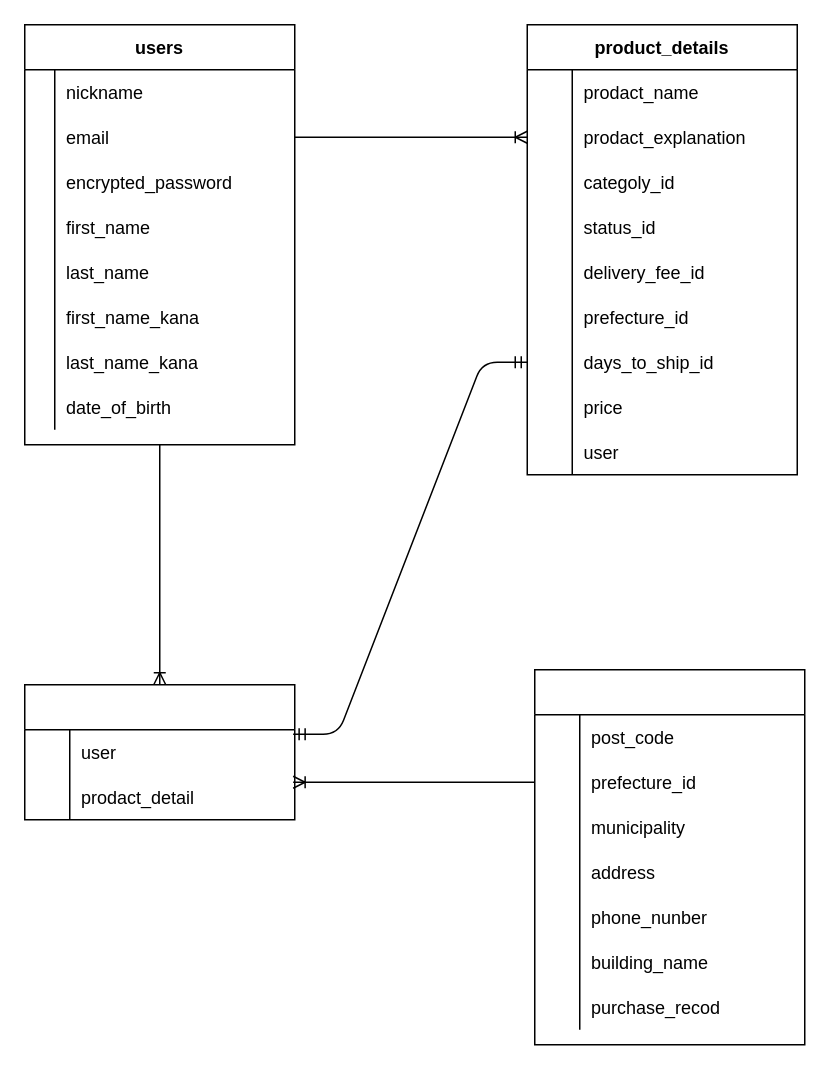
Some shapes in this 830 by 1070 pixel diagram are drawn without their labels. Each missing label, with the box of its shape:
addresses: (533, 668, 805, 1045)
purchase_records: (23, 683, 295, 820)
